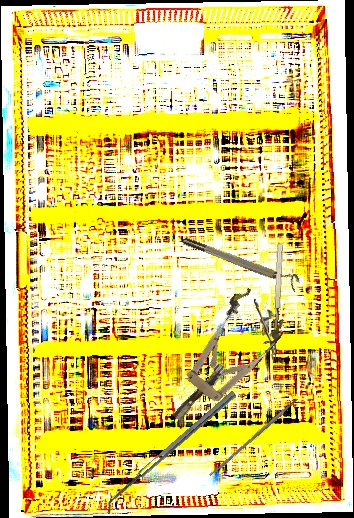Fixation Ring: (180, 229, 303, 293)
Needle Holder: (248, 242, 287, 362)
Scalpel Handle: (208, 397, 300, 478)
Spatula Surgical: (100, 390, 242, 516)
Speculum: (150, 283, 293, 438)
